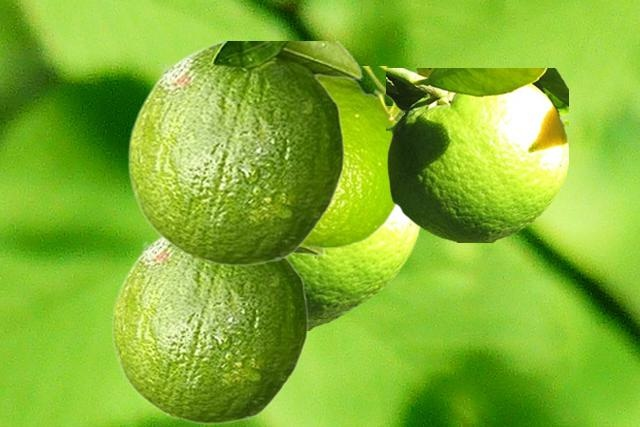dalandan: (127, 41, 362, 265), (111, 237, 324, 423), (386, 68, 567, 241), (289, 106, 419, 317), (300, 66, 401, 247)
